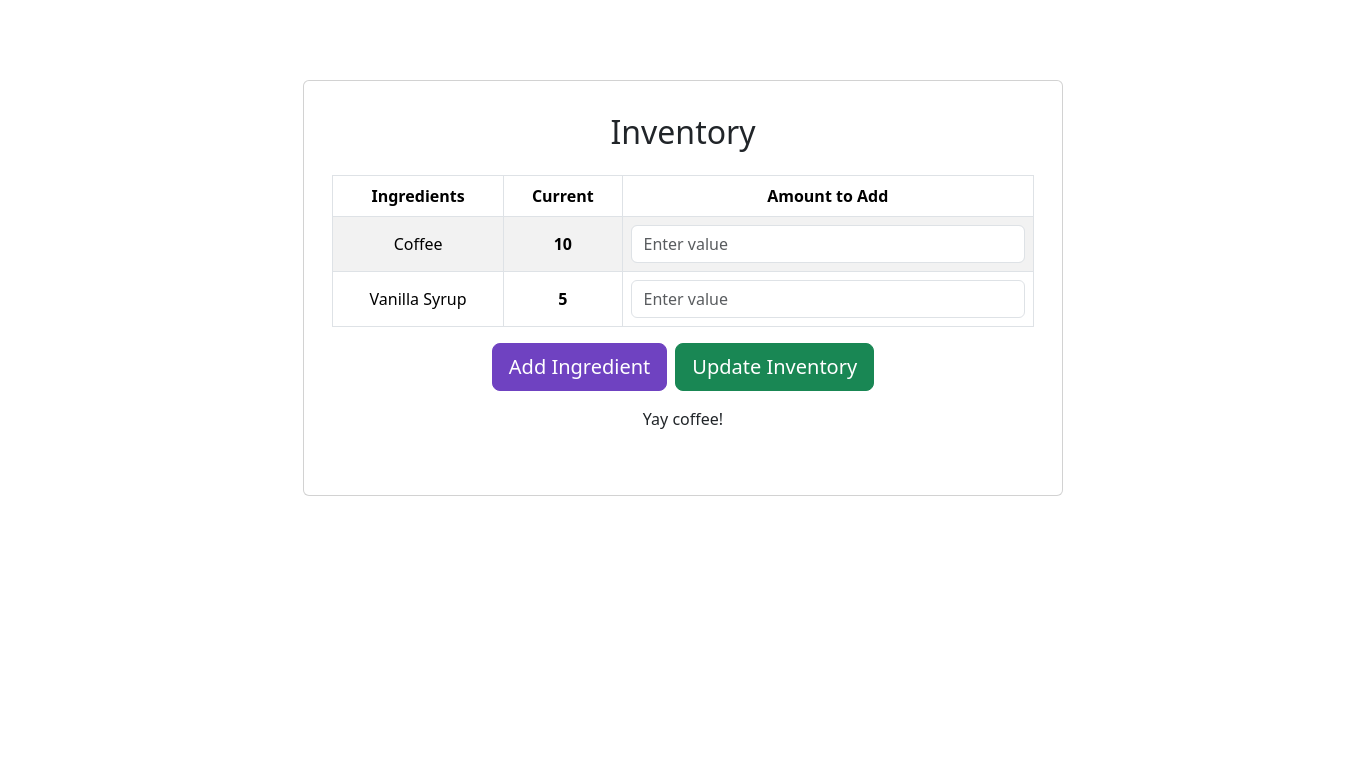
InventoryComponent › adds a new ingredient through the modal
Expected: the text "Coffee" is shown, [332,217,504,272]
Click the button "Add Ingredient" at (580, 367), box [492,343,667,391]
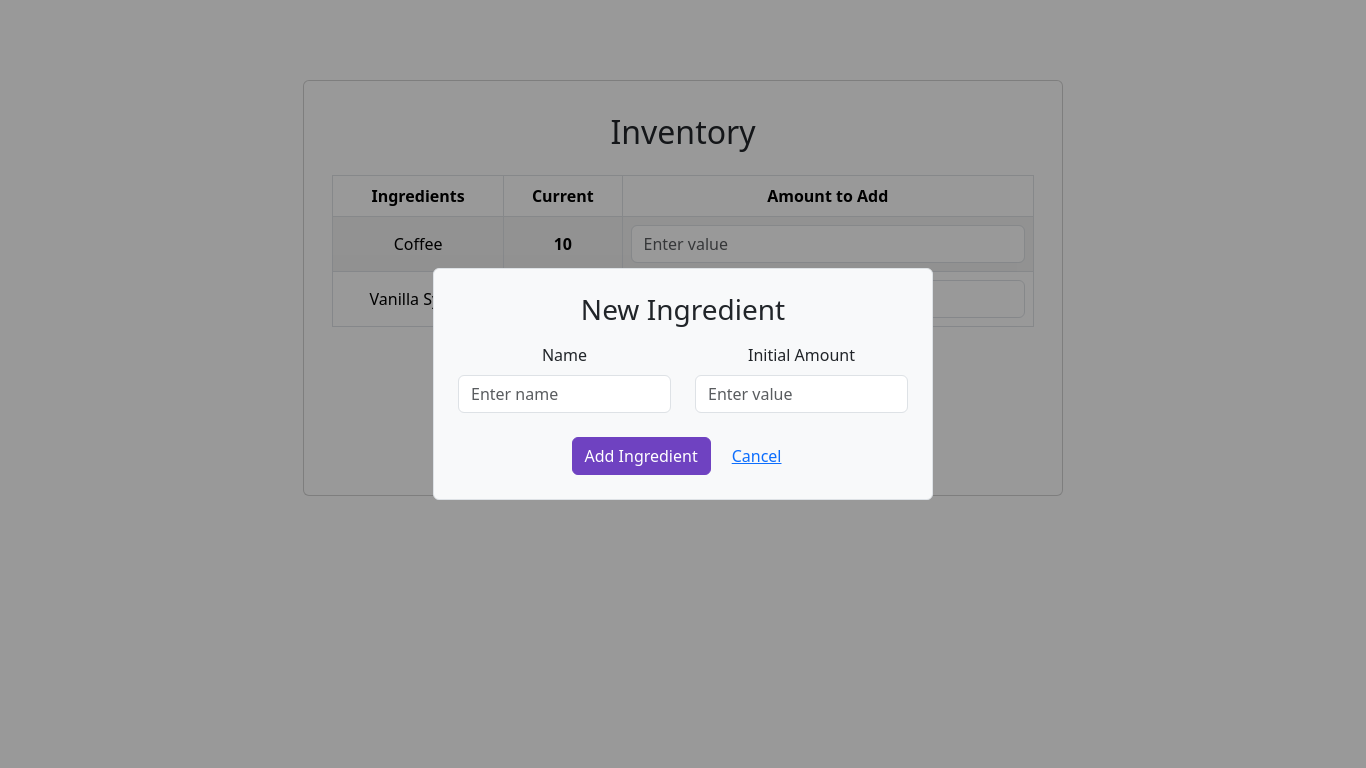
Type "Sugar" into the field with placeholder "Enter name" at (564, 394), box [458,375,671,413]
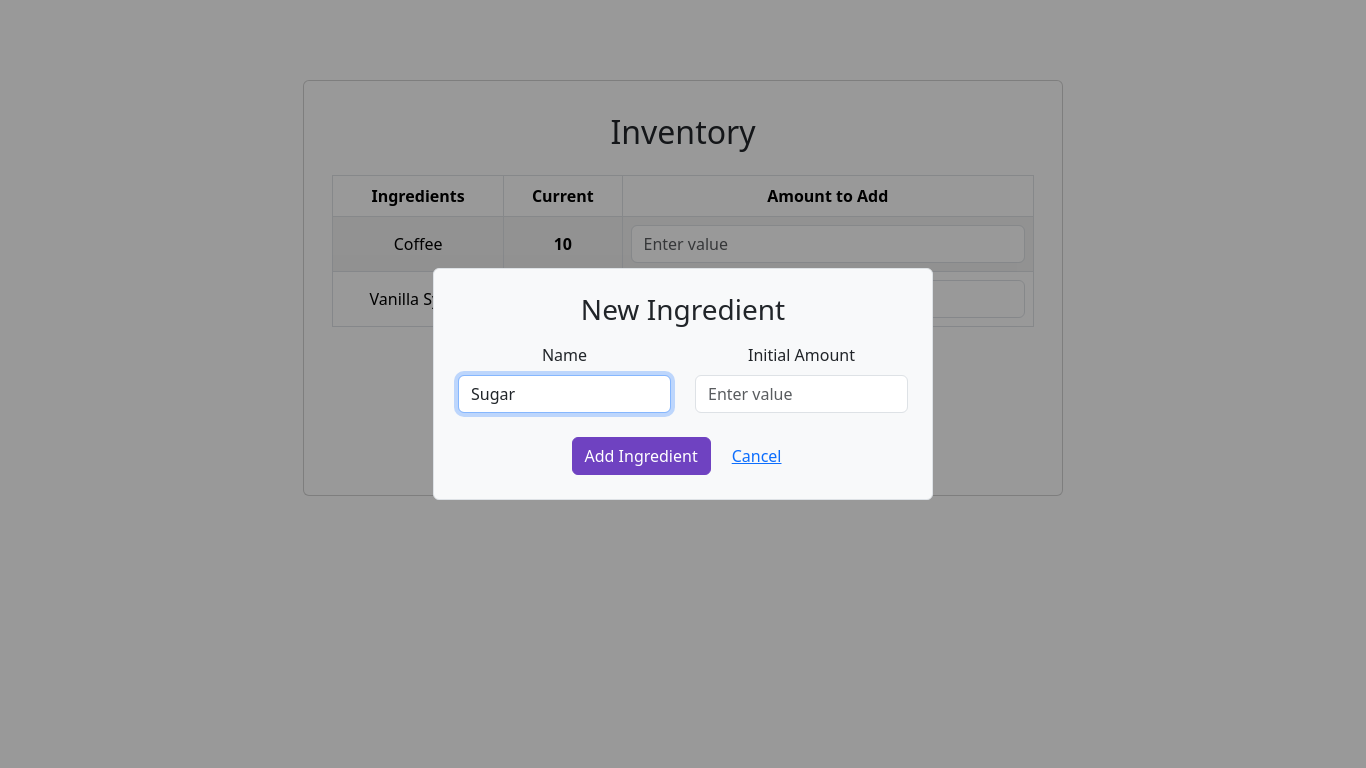
Type "8" into the number field with placeholder "Enter value" at (802, 394), box [695,375,908,413]
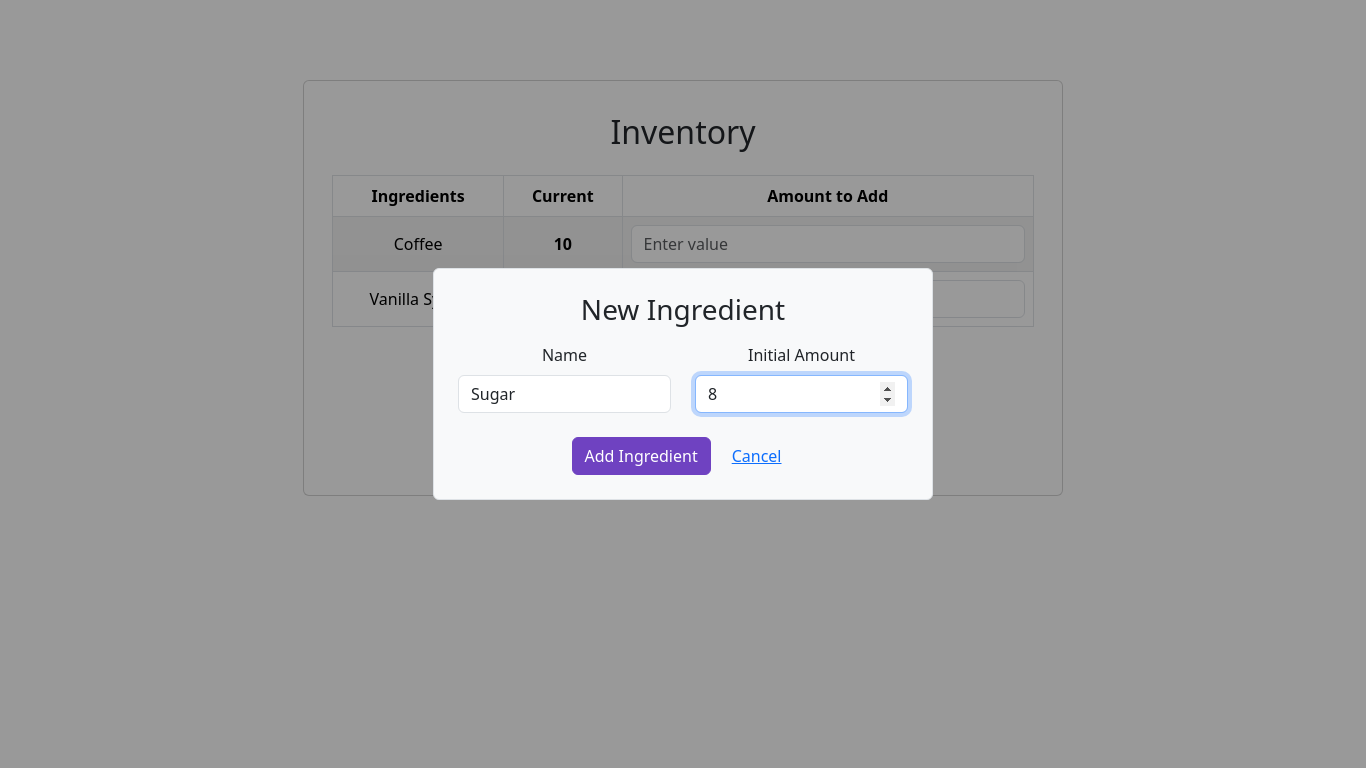
Click the button "Add Ingredient" at (641, 456), box [572,437,711,475]
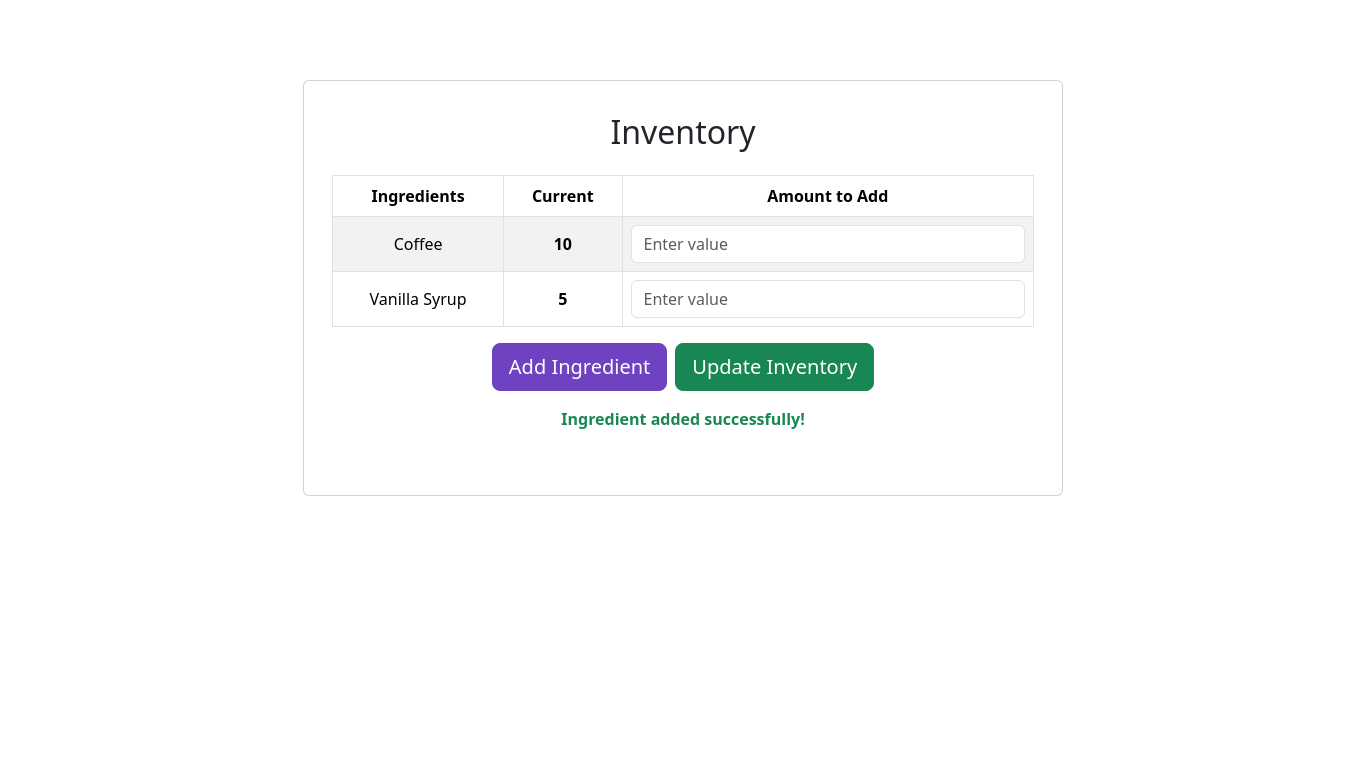
Result: the text "Ingredient added successfully!" is shown at [561,408,805,430]
